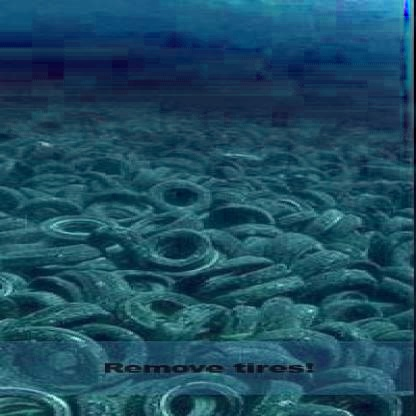tire: (141, 371, 279, 411), (129, 183, 247, 217), (129, 228, 220, 270), (121, 295, 239, 326), (287, 205, 383, 242), (320, 298, 402, 336), (29, 212, 127, 240)
